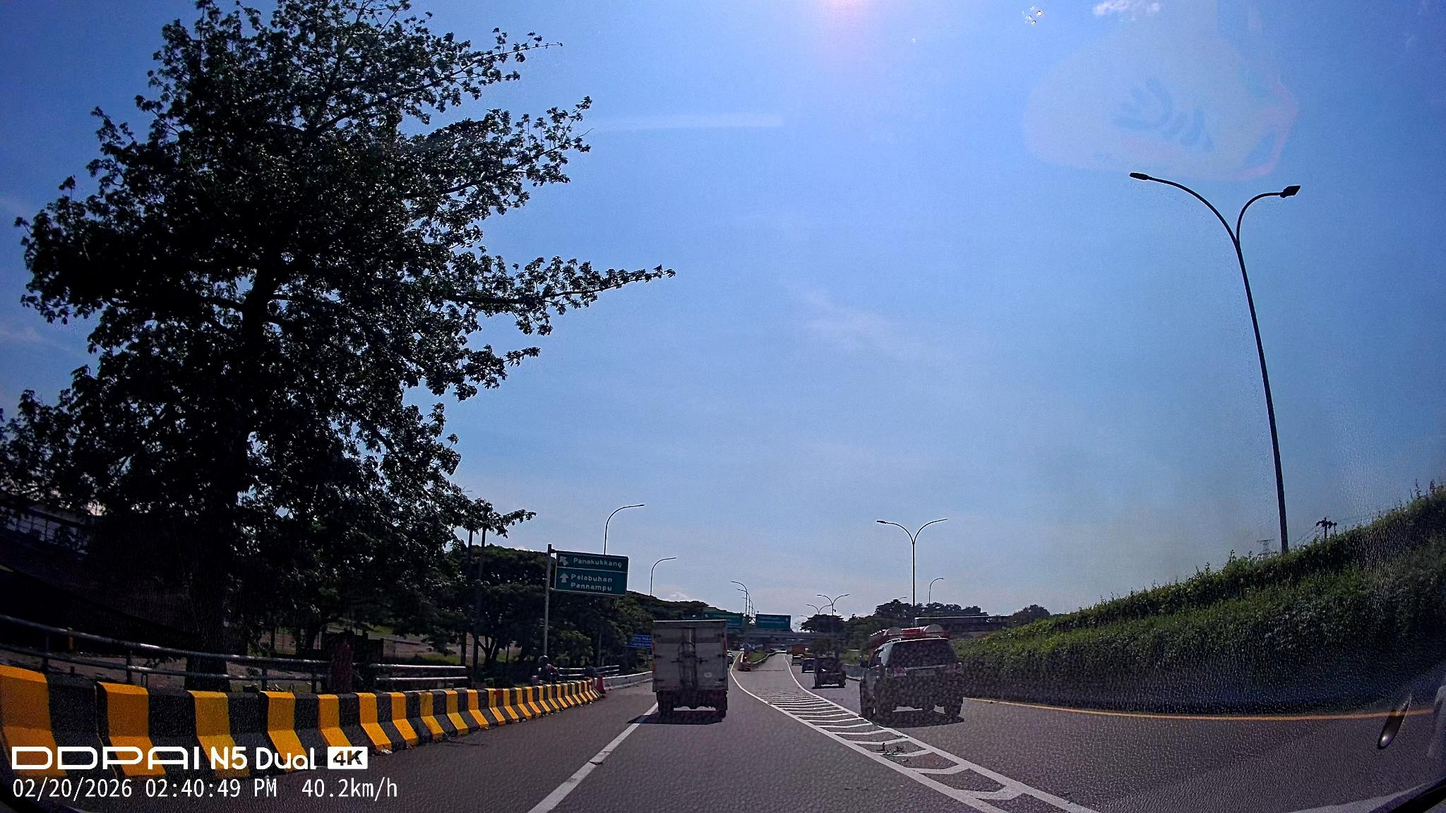rambu_teks: (554, 551, 628, 596)
